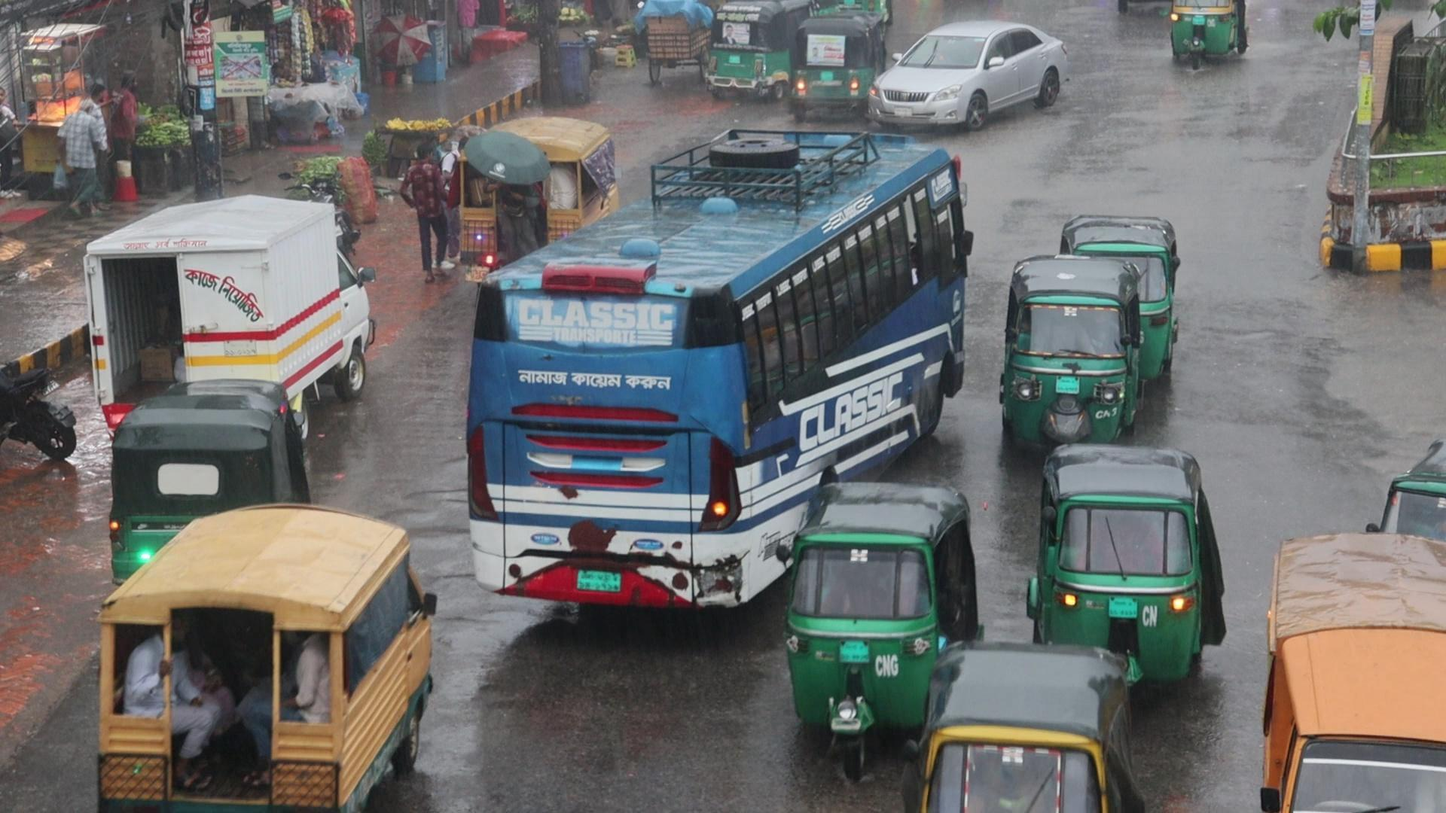Bus: (462, 124, 975, 512)
Car: (866, 17, 1068, 129)
Truck: (93, 502, 438, 813), (1261, 526, 1446, 813), (456, 113, 610, 233)
